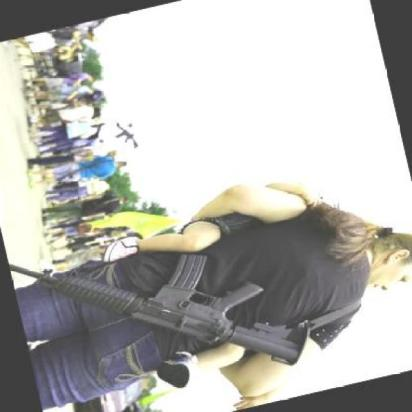Gun: (2, 254, 306, 352)
